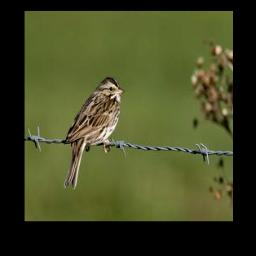Sparrow: (61, 75, 125, 192)
